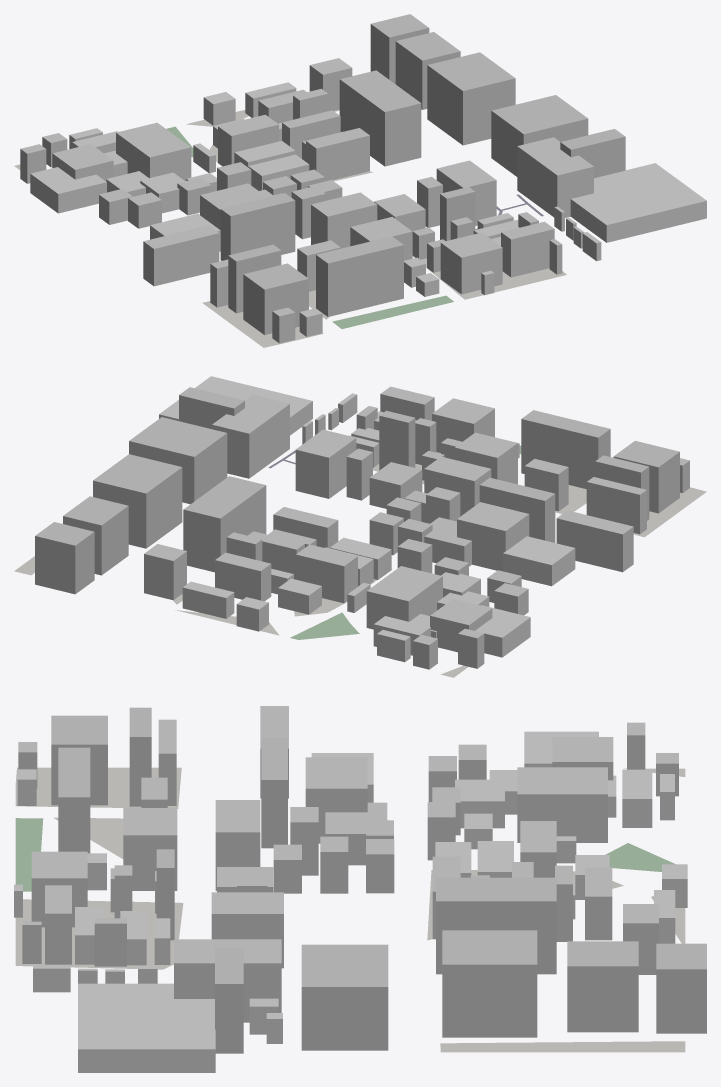
Rendered from 121_93_mid.glb.
3 renders of one model, top to bottom at view 1: azimuth 30°, elevation 25°; view 2: azimuth 150°, elevation 25°; view 3: azimuth 270°, elevation 25°, orthographic. The views are drawn at different scales.
Size of the model in its own units: 559 by 60.91 by 518.
